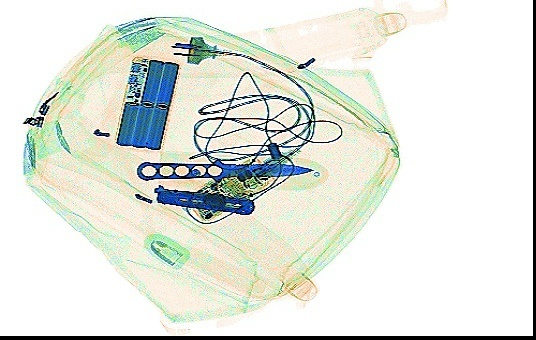knife: (133, 160, 313, 180), (153, 183, 254, 215)
powerbank: (109, 55, 180, 151)
